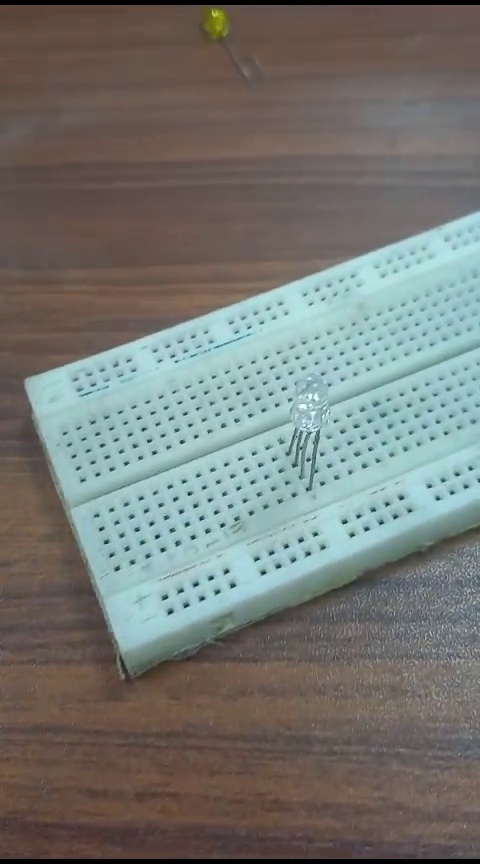LED: (272, 376, 339, 489)
